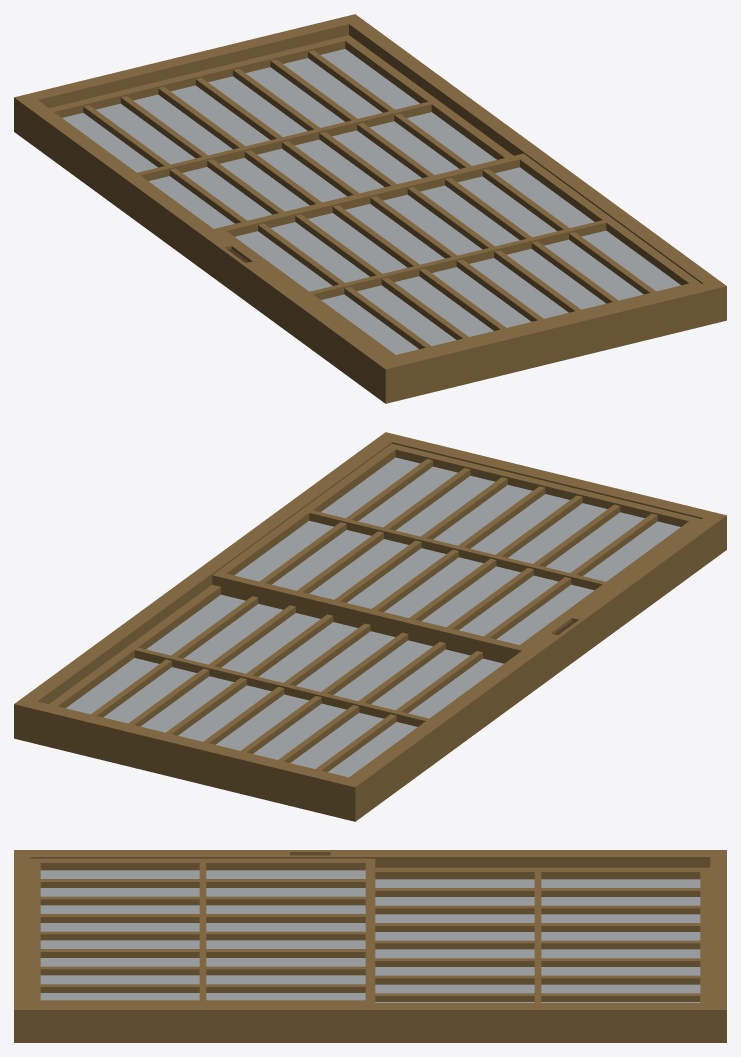
The model's file is Syoji_right.fbx.
The picture shows the model from 3 angles, top to bottom: view 1: azimuth 30°, elevation 25°; view 2: azimuth 150°, elevation 25°; view 3: azimuth 270°, elevation 25°; orthographic projection. The views are drawn at different scales.
Parts seen in each view (by area): view 1: syoji.right; view 2: syoji.right; view 3: syoji.right.
Boxes of the visible parts, left/top/right/bottom form: syoji.right: left=14, top=14, right=726, bottom=403; syoji.right: left=14, top=432, right=726, bottom=821; syoji.right: left=14, top=850, right=726, bottom=1042.
Bounding box in the file's own units: 114 × 11 × 215.
